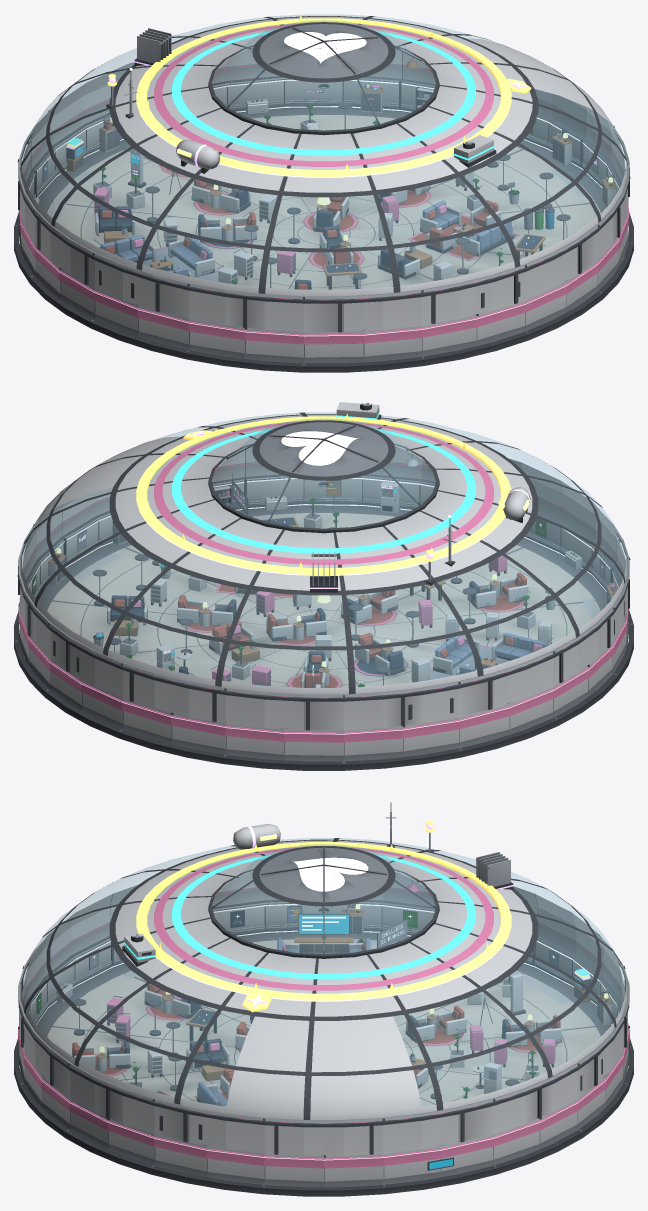
File: lounge_xl.glb
3 views of the same model, one above another, from view 1: azimuth 30°, elevation 25°; view 2: azimuth 150°, elevation 25°; view 3: azimuth 270°, elevation 25° (orthographic).
Visible parts, largest first — view 1: Roof, Base, Interior, L5, L3, L4, Wall_21, Wall_20, Wall_22, Upper_20, Wall_06, Upper_21 (+38 smaller); view 2: Roof, Base, Interior, L5, L3, L4, Wall_10, Wall_25, Wall_09, Wall_11, Upper_11, Upper_10 (+37 smaller); view 3: Roof, Base, Interior, L5, L3, L4, Wall_00, Wall_31, Upper_00, Upper_31, Wall_30, Upper_01 (+42 smaller).
Boxes of the visible parts, box(x1,y1,x2,y2) form: Roof: box(18, 14, 629, 300); Base: box(14, 107, 633, 372); Interior: box(48, 111, 589, 289); L5: box(106, 15, 531, 176); L3: box(172, 30, 496, 167); L4: box(134, 28, 507, 177); Wall_21: box(304, 330, 363, 363); Wall_20: box(244, 327, 303, 363); Wall_22: box(363, 325, 422, 362); Upper_20: box(244, 296, 303, 331); Wall_06: box(226, 76, 284, 114); Upper_21: box(304, 300, 363, 332); Roof: box(18, 412, 629, 698); Base: box(14, 505, 633, 770); Interior: box(52, 506, 599, 687); L5: box(136, 413, 511, 585); L3: box(172, 402, 475, 553); L4: box(140, 487, 530, 592); Wall_10: box(284, 728, 343, 761); Wall_25: box(363, 474, 421, 513); Wall_09: box(225, 723, 284, 760); Wall_11: box(344, 725, 403, 761); Upper_11: box(344, 694, 403, 729); Upper_10: box(284, 698, 343, 730); Roof: box(18, 838, 629, 1124); Base: box(14, 932, 633, 1196); Interior: box(53, 913, 570, 1106); L5: box(136, 820, 511, 1012); L3: box(122, 854, 475, 979); L4: box(155, 823, 513, 1001); Wall_00: box(324, 1153, 383, 1187); Wall_31: box(264, 1153, 323, 1187); Upper_00: box(324, 1122, 383, 1155); Upper_31: box(264, 1122, 323, 1155); Wall_30: box(207, 1145, 264, 1184); Upper_01: box(383, 1115, 440, 1153).
Bounding box in the file's own units: 23.15 × 8.27 × 23.15.
